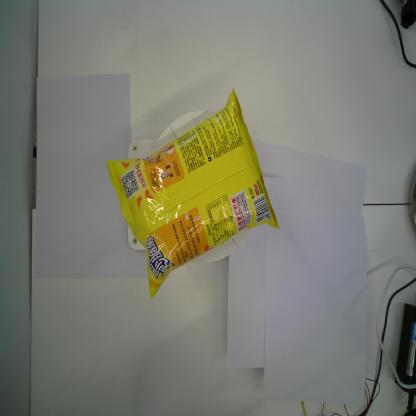Puffed Food: (106, 87, 280, 300)
